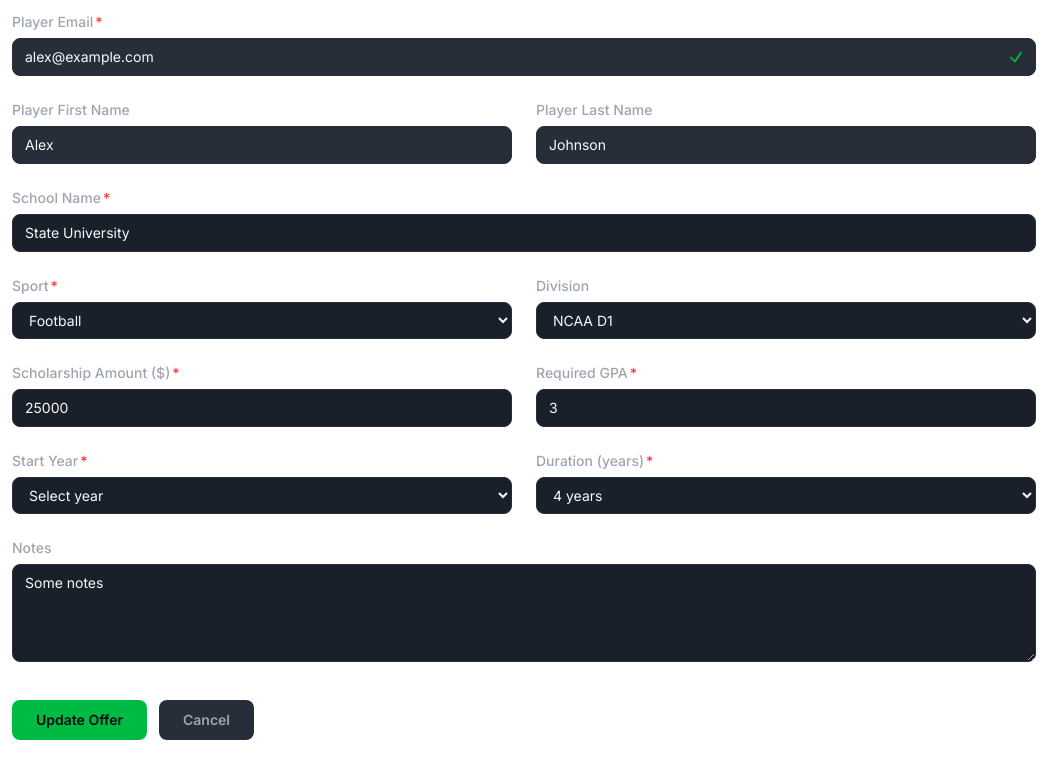
Test: ScholarshipForm — validation › shows error when scholarship amount is 0
Replace the text in the number field labelled "Scholarship Amount ($)*" with "0": (262, 408) [12, 389, 512, 427]
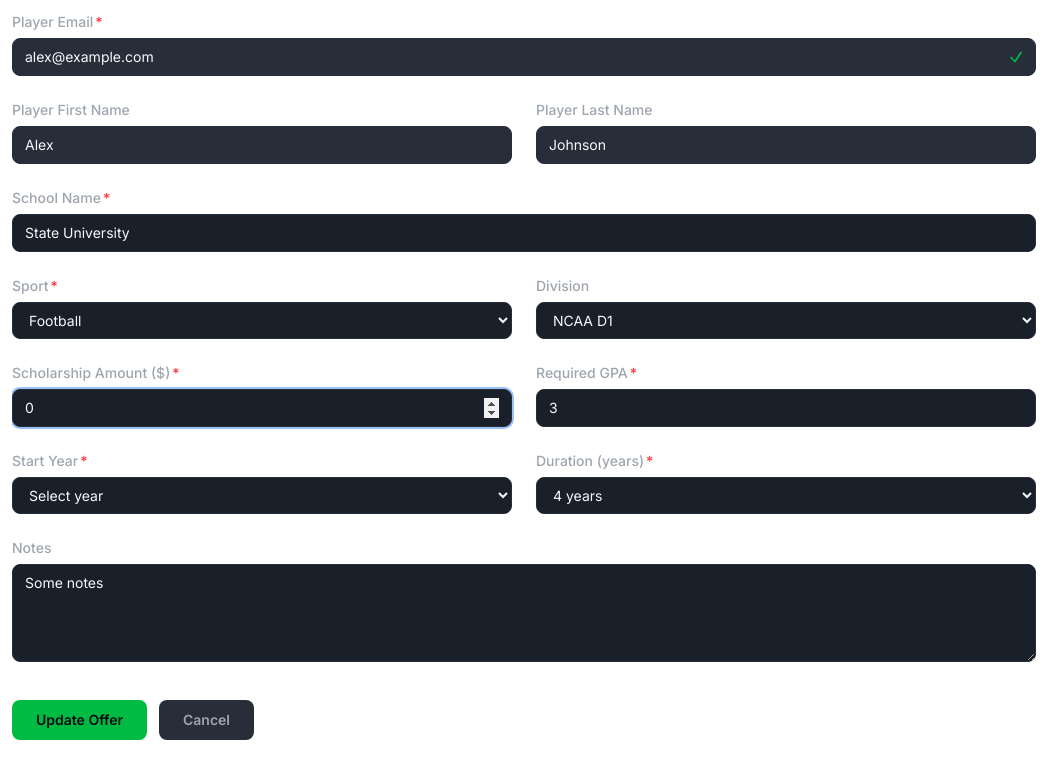
Click the button "Update Offer": (80, 720) [12, 700, 147, 740]
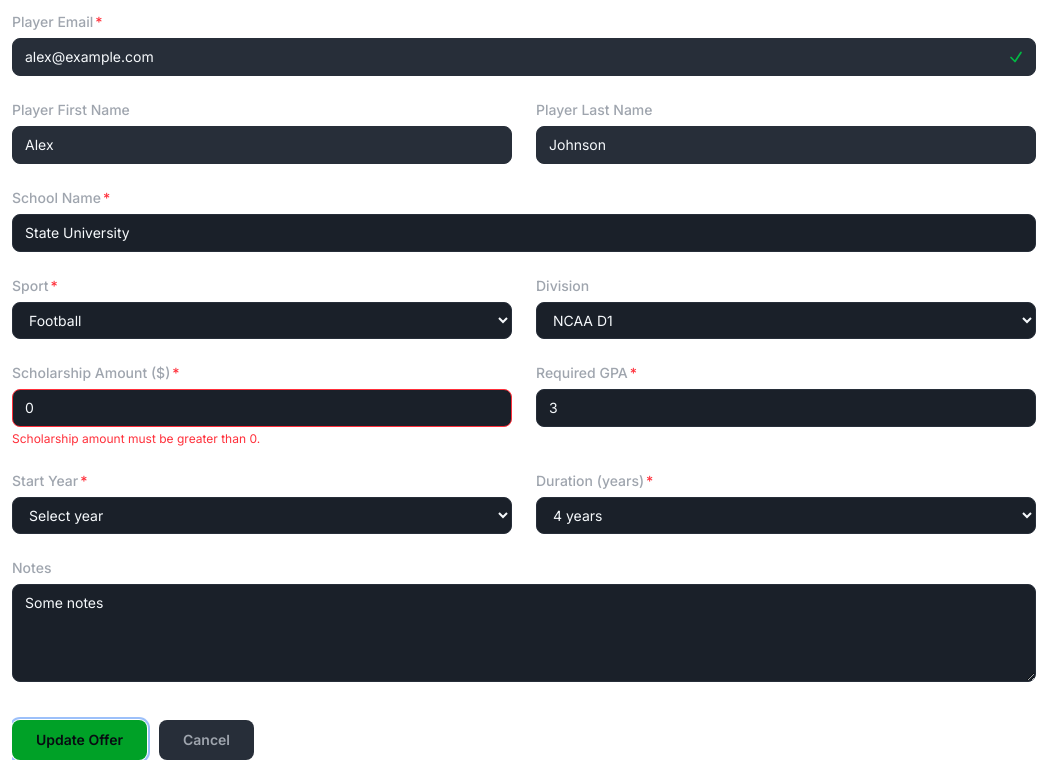
Check: the text "Scholarship amount must be greater than 0." is shown, box [12, 431, 260, 446]
